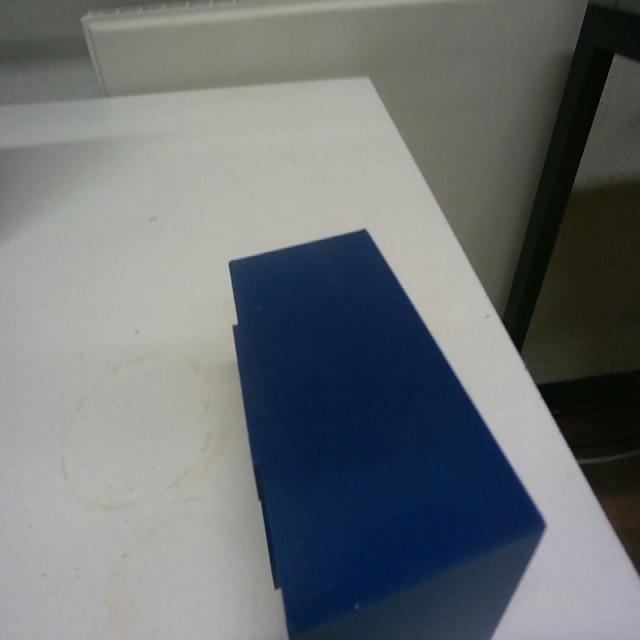Blue Cuboid: (225, 223, 547, 637)
